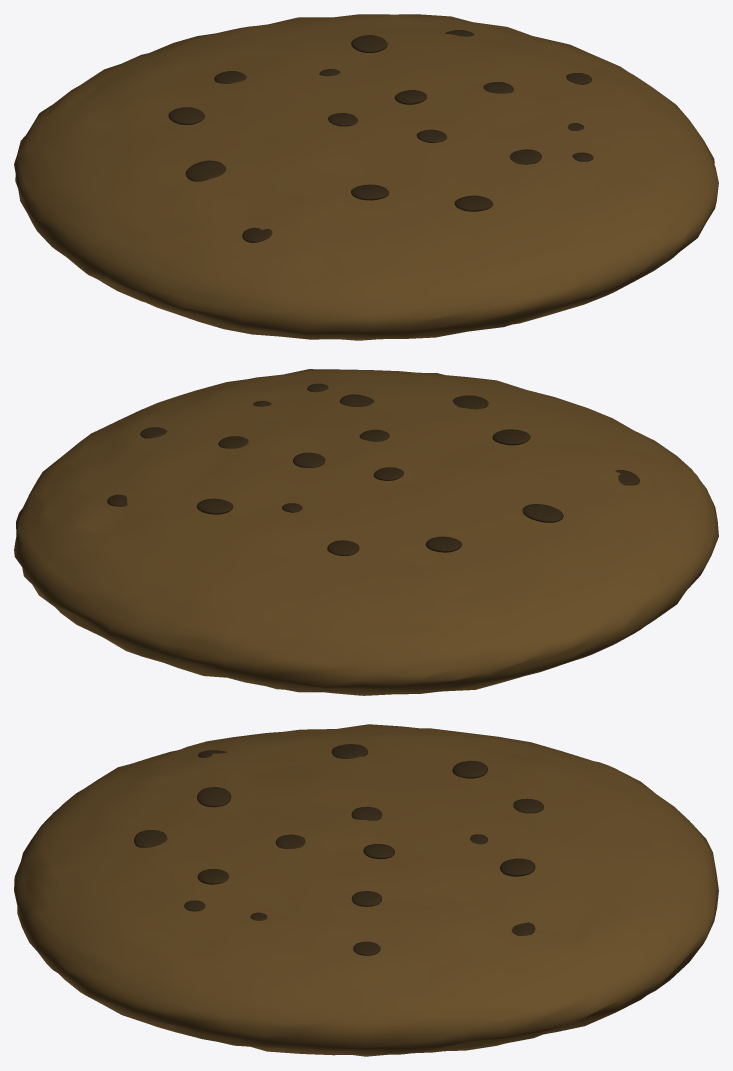
File: Arena_Cookie_01.fbx
3 renders of one model, top to bottom at view 1: azimuth 30°, elevation 25°; view 2: azimuth 150°, elevation 25°; view 3: azimuth 270°, elevation 25°, orthographic. The views are drawn at different scales.
Visible parts, largest first — view 1: Arena_Cookie_Base; view 2: Arena_Cookie_Base; view 3: Arena_Cookie_Base.
Boxes of the visible parts, <box> form: Arena_Cookie_Base: <box>14,14,718,340</box>; Arena_Cookie_Base: <box>14,369,718,695</box>; Arena_Cookie_Base: <box>14,724,718,1056</box>.
Bounding box in the file's own units: 6334 × 1334 × 6349.
